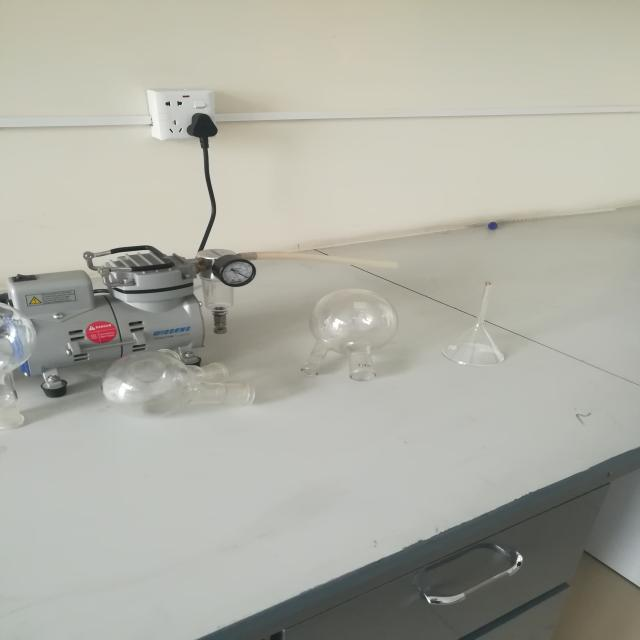Funnel: (428, 273, 538, 390)
Round_Bottom_Flask_Borosilicate_Glass_2_Neck: (282, 266, 402, 392)
Round_Bottom_Flask_Borosilicate_Glass_3_Neck: (97, 325, 277, 444)
